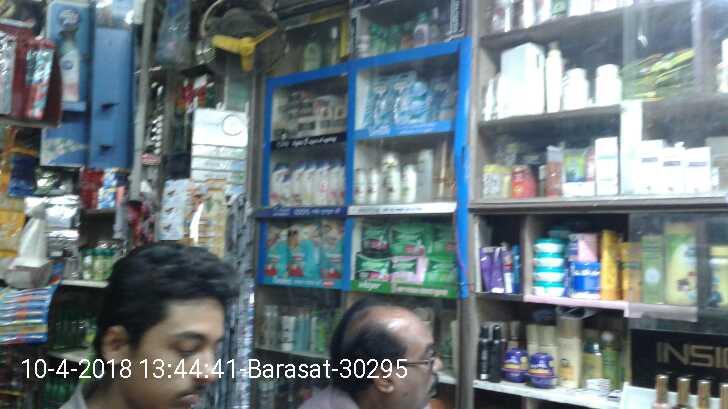ambipureVesus: (58, 1, 93, 104)
venus: (389, 70, 412, 122), (367, 77, 389, 122), (431, 74, 452, 118)
